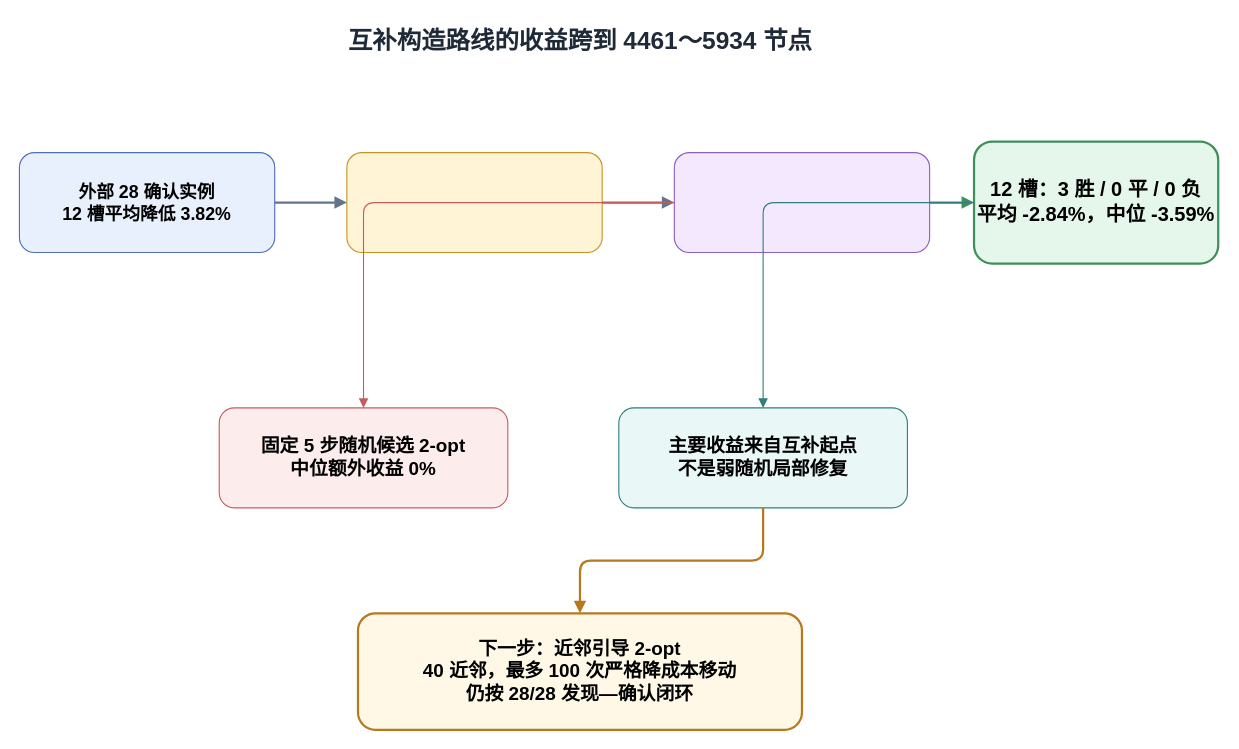
Image size: 1239x749. Some labels were removed from this diagram. Here are the shapes that lost their labels. From the top down, the box of each, then its label:
(346, 152, 602, 253): 组合与修复预算冻结 不按高规模结果换代码
(673, 152, 930, 253): 3 个官方高规模实例 36/36 代码坐标有效
